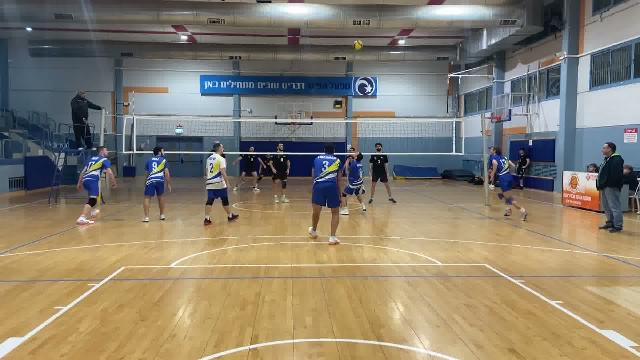ball: (352, 41, 365, 52)
